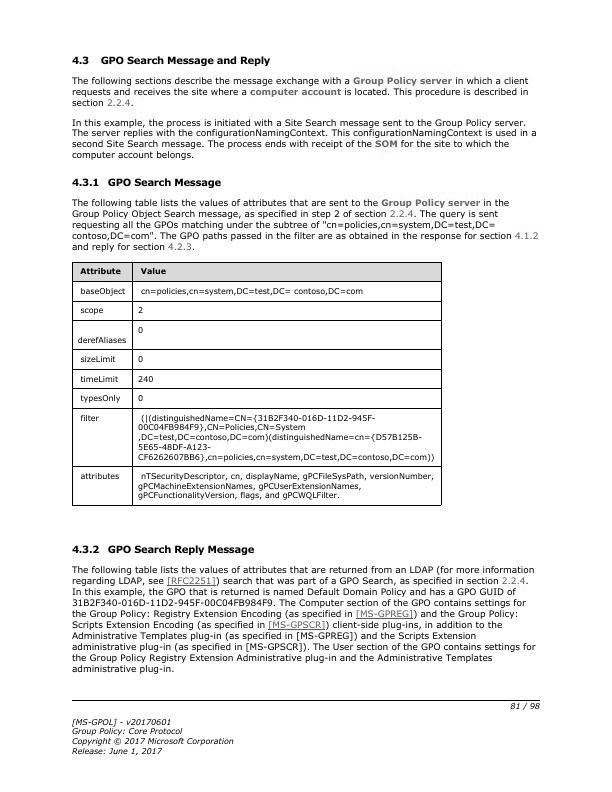table: (71, 261, 443, 508)
text: (66, 564, 543, 678), (70, 195, 540, 253), (68, 116, 540, 162), (70, 73, 530, 110), (68, 715, 237, 759), (69, 541, 258, 559), (68, 53, 273, 68), (70, 176, 224, 190)
